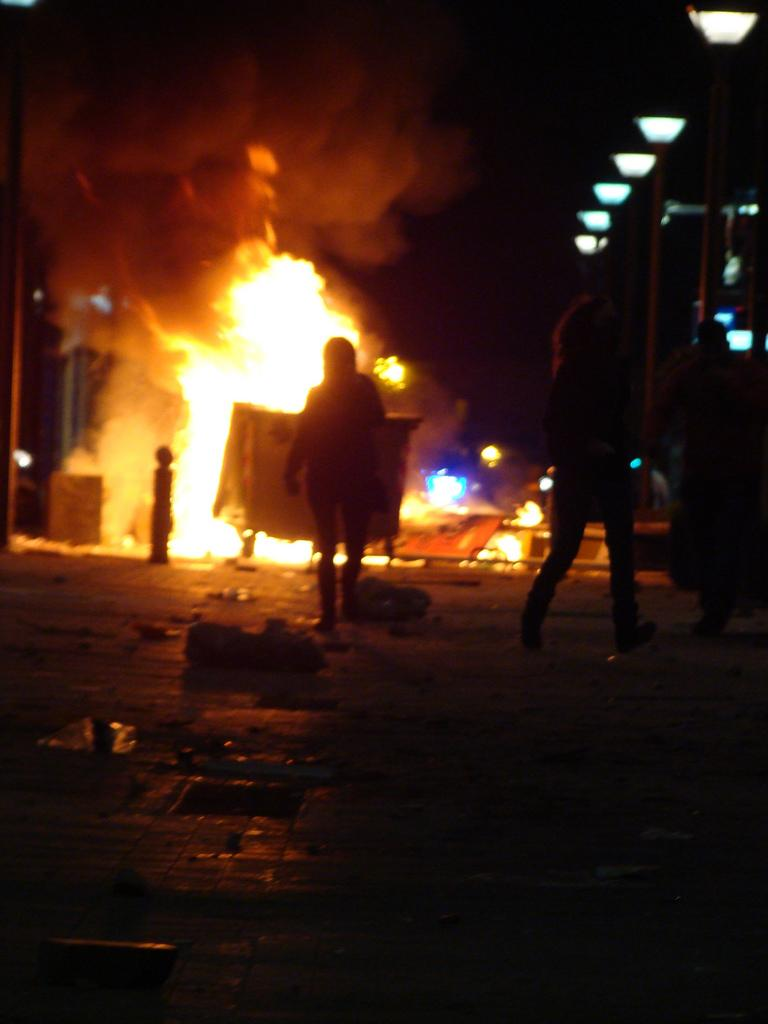fire: (212, 260, 328, 415), (180, 405, 237, 550)
